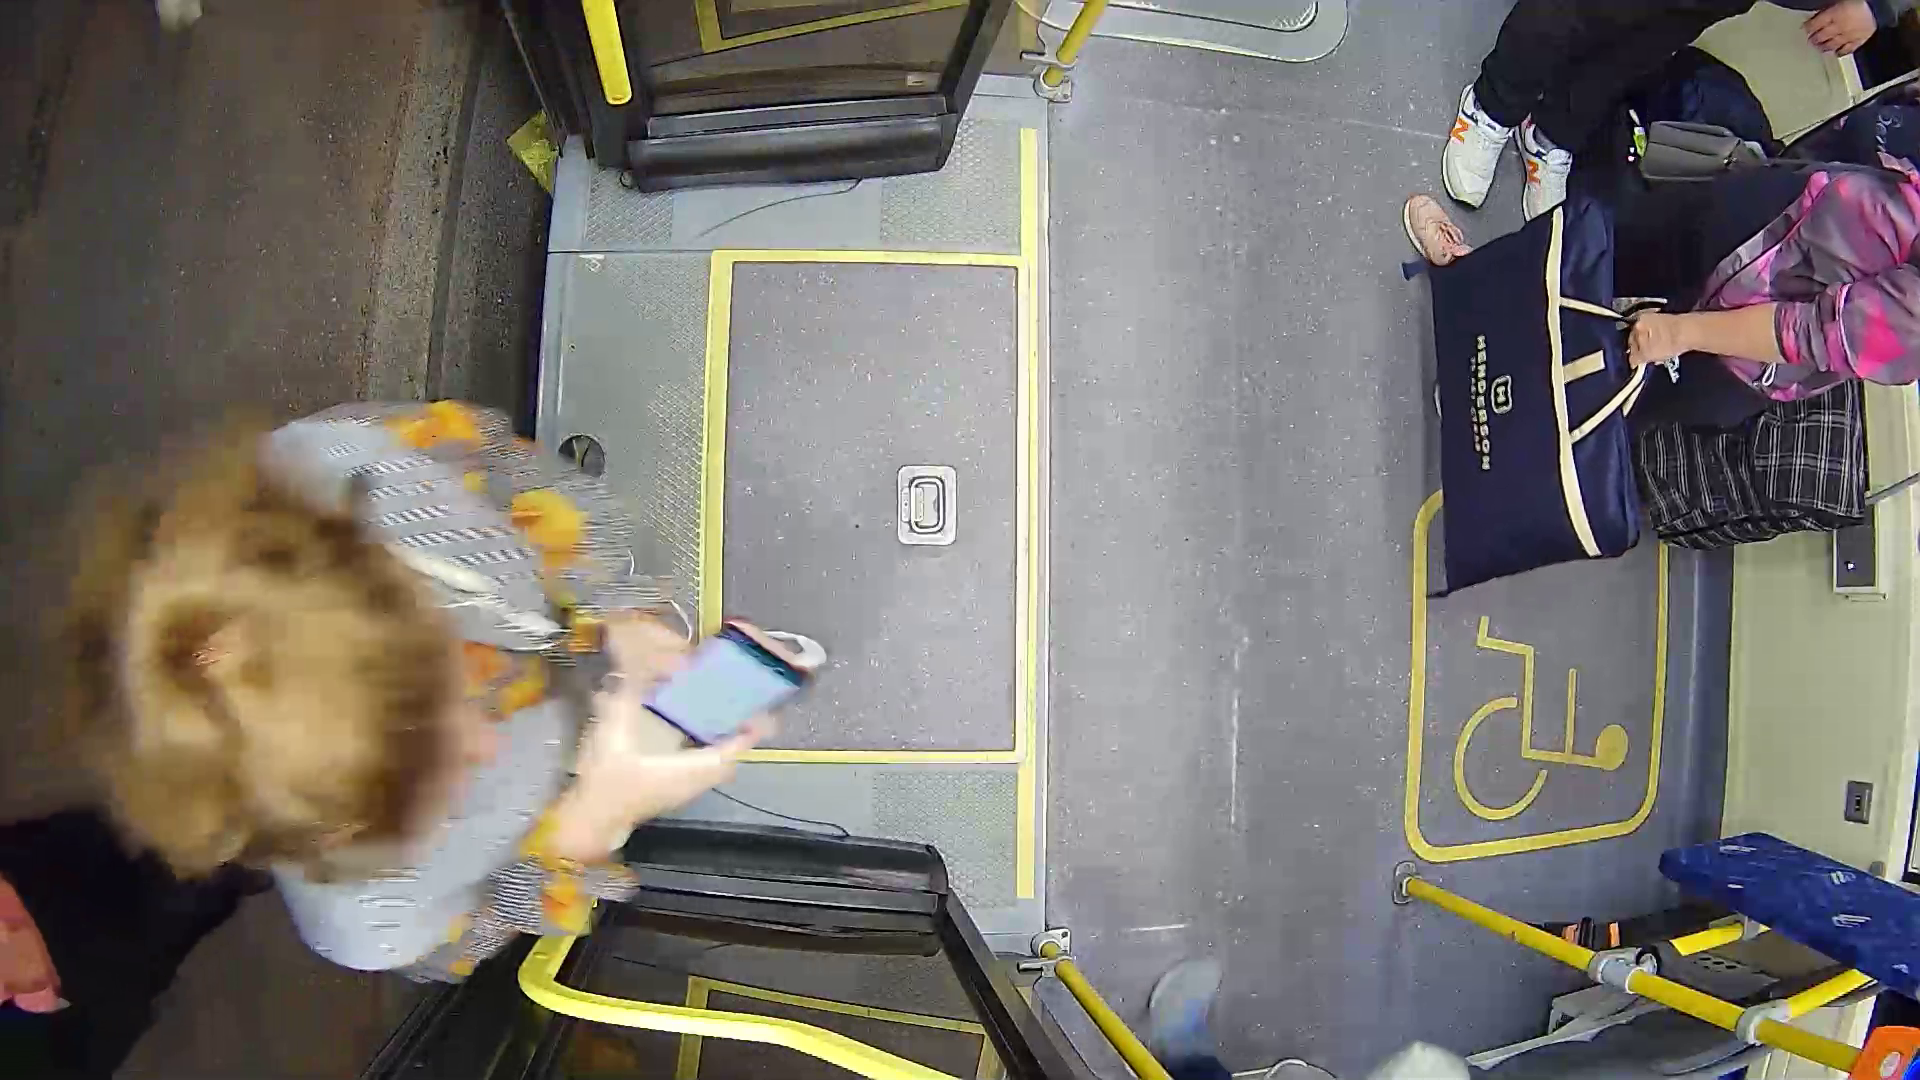person: (71, 370, 897, 968)
